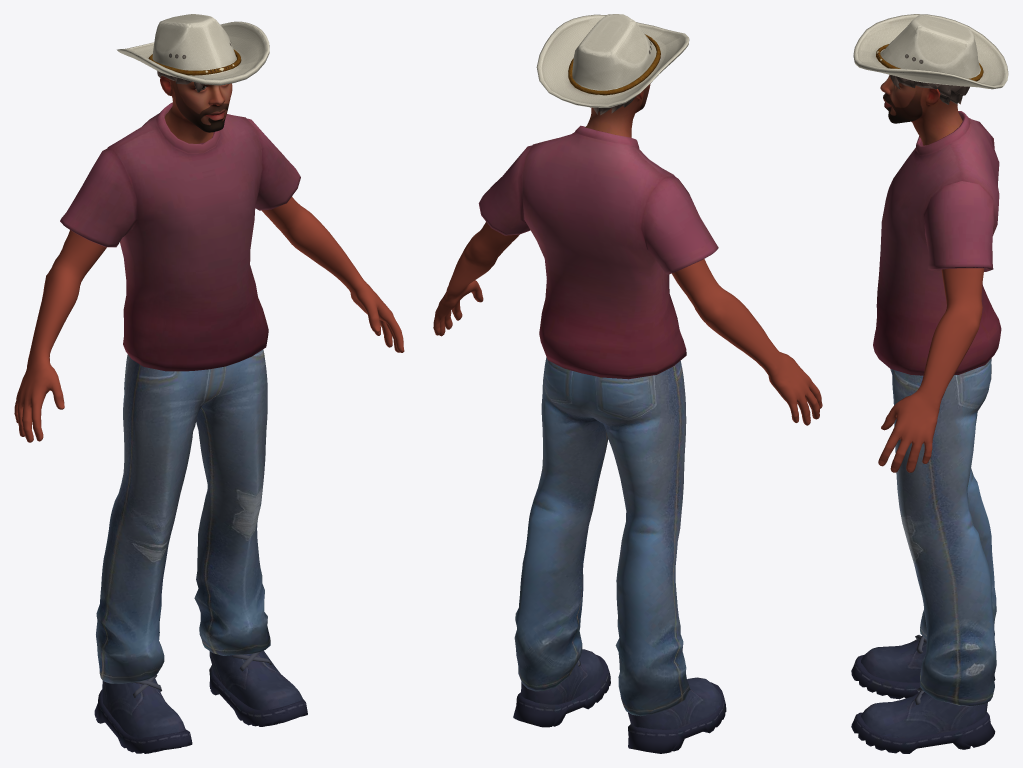
The model's file is Explorer.fbx.
The picture shows the model from 3 angles, left to right: view 1: azimuth 30°, elevation 25°; view 2: azimuth 150°, elevation 25°; view 3: azimuth 270°, elevation 25°; orthographic projection.
Visible parts, largest first — view 1: Wolf3D_Outfit_Bottom, Wolf3D_Outfit_Top, Wolf3D_Body, Wolf3D_Outfit_Footwear, Wolf3D_Headwear, Wolf3D_Head; view 2: Wolf3D_Outfit_Bottom, Wolf3D_Outfit_Top, Wolf3D_Headwear, Wolf3D_Body, Wolf3D_Outfit_Footwear, Wolf3D_Head; view 3: Wolf3D_Outfit_Bottom, Wolf3D_Outfit_Top, Wolf3D_Outfit_Footwear, Wolf3D_Headwear, Wolf3D_Body, Wolf3D_Head.
Boxes of the visible parts, left/top/right/bottom form: Wolf3D_Outfit_Bottom: left=96, top=349, right=270, bottom=683; Wolf3D_Outfit_Top: left=60, top=102, right=300, bottom=371; Wolf3D_Body: left=14, top=197, right=404, bottom=442; Wolf3D_Outfit_Footwear: left=94, top=650, right=307, bottom=753; Wolf3D_Headwear: left=117, top=14, right=269, bottom=92; Wolf3D_Head: left=160, top=76, right=232, bottom=143; Wolf3D_Outfit_Bottom: left=514, top=357, right=689, bottom=716; Wolf3D_Outfit_Top: left=478, top=125, right=718, bottom=379; Wolf3D_Headwear: left=536, top=14, right=689, bottom=115; Wolf3D_Body: left=433, top=222, right=822, bottom=425; Wolf3D_Outfit_Footwear: left=513, top=649, right=726, bottom=753; Wolf3D_Head: left=585, top=84, right=650, bottom=137; Wolf3D_Outfit_Bottom: left=890, top=358, right=996, bottom=706; Wolf3D_Outfit_Top: left=873, top=111, right=1001, bottom=375; Wolf3D_Outfit_Footwear: left=851, top=635, right=995, bottom=753; Wolf3D_Headwear: left=853, top=14, right=1008, bottom=104; Wolf3D_Body: left=878, top=268, right=984, bottom=472; Wolf3D_Head: left=880, top=75, right=962, bottom=145.
Size of the model in its own units: 106 by 189 by 38.75.
8 materials, 8 textured.
